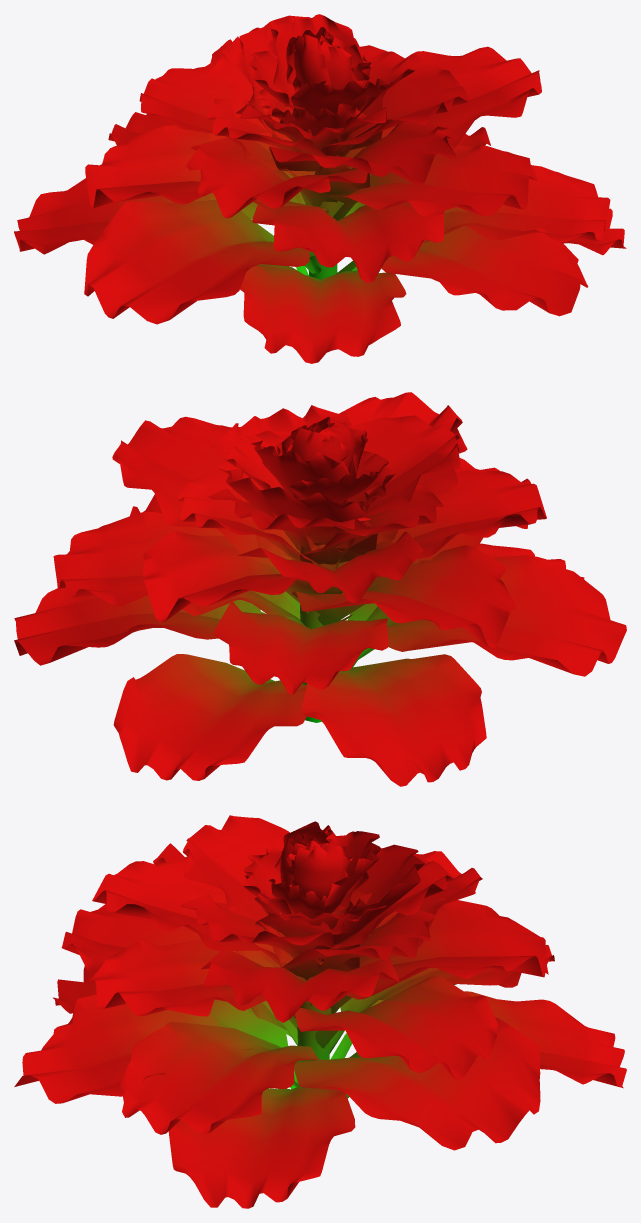
The model's file is Purple Ornamental Kale_LOD0_Var8_ugdieawja.fbx.
3 views of the same model, one above another, from view 1: azimuth 30°, elevation 25°; view 2: azimuth 150°, elevation 25°; view 3: azimuth 270°, elevation 25° (orthographic). The views are drawn at different scales.
Parts seen in each view (by area): view 1: _156c_Var8_LOD0; view 2: _156c_Var8_LOD0; view 3: _156c_Var8_LOD0.
Boxes of the visible parts, <box> form: _156c_Var8_LOD0: <box>14,14,626,363</box>; _156c_Var8_LOD0: <box>14,392,626,786</box>; _156c_Var8_LOD0: <box>14,815,626,1208</box>.
Size of the model in its own units: 60.7 by 32.26 by 60.64.
